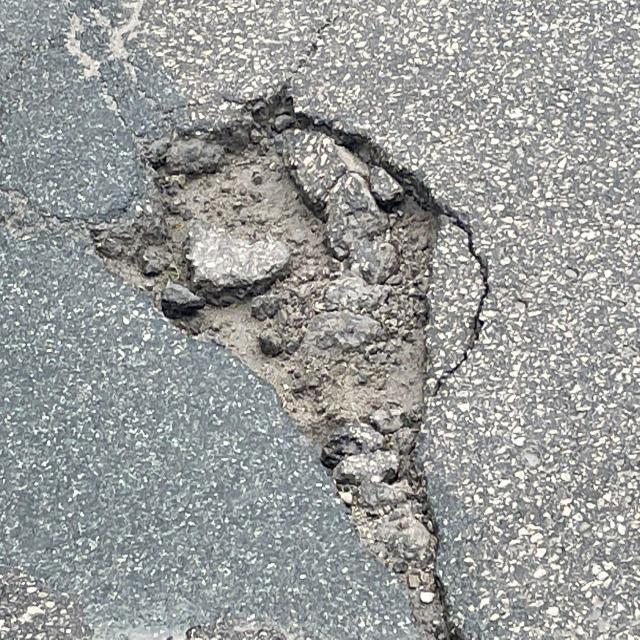Pothole: (91, 81, 459, 638)
